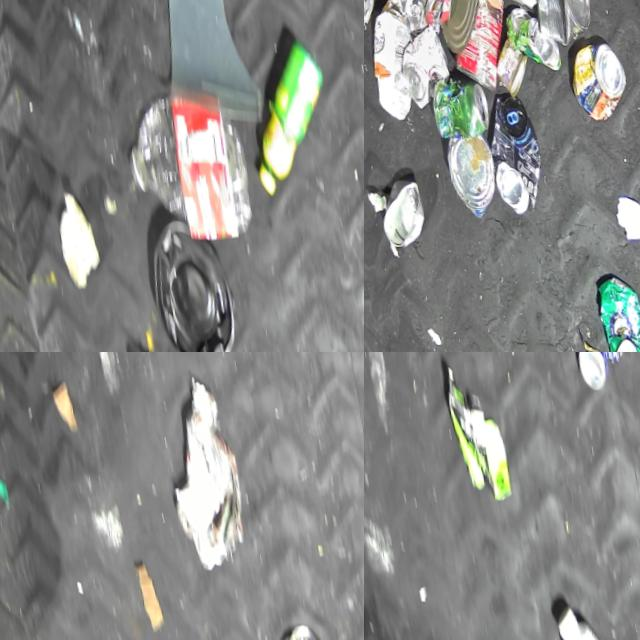can: (473, 87, 543, 213), (434, 0, 514, 90), (560, 32, 628, 118), (390, 16, 452, 108), (436, 128, 496, 216), (584, 267, 640, 352), (424, 69, 489, 137), (368, 174, 423, 250), (498, 0, 558, 69), (559, 352, 630, 401), (422, 0, 487, 50), (518, 0, 593, 43), (486, 30, 529, 93), (569, 341, 604, 352)
plastic_bottle: (110, 83, 255, 248)
